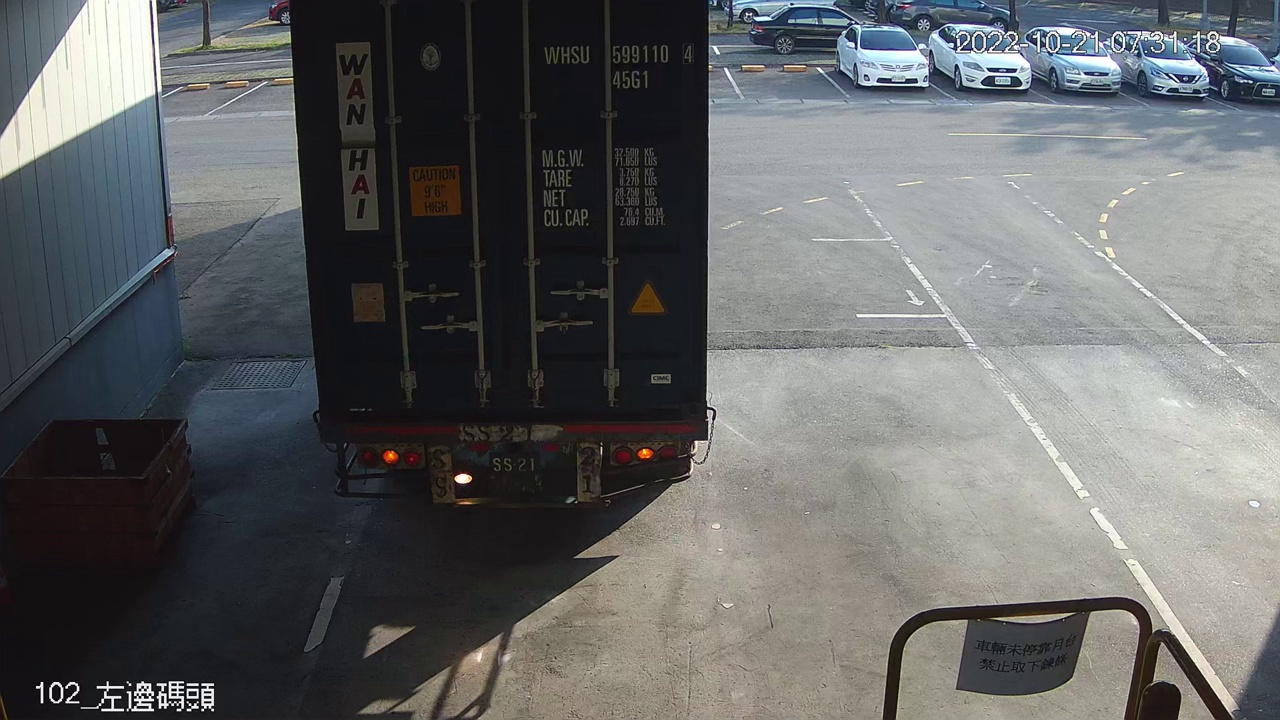container: (537, 37, 699, 96)
